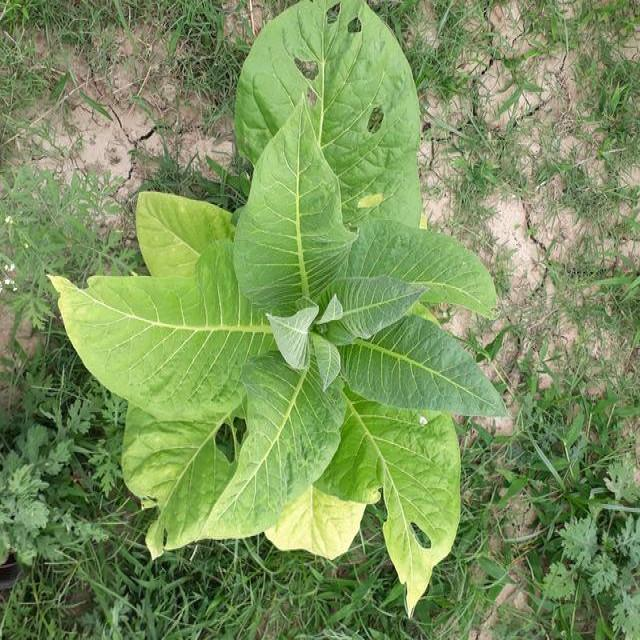crop: (48, 4, 495, 604)
